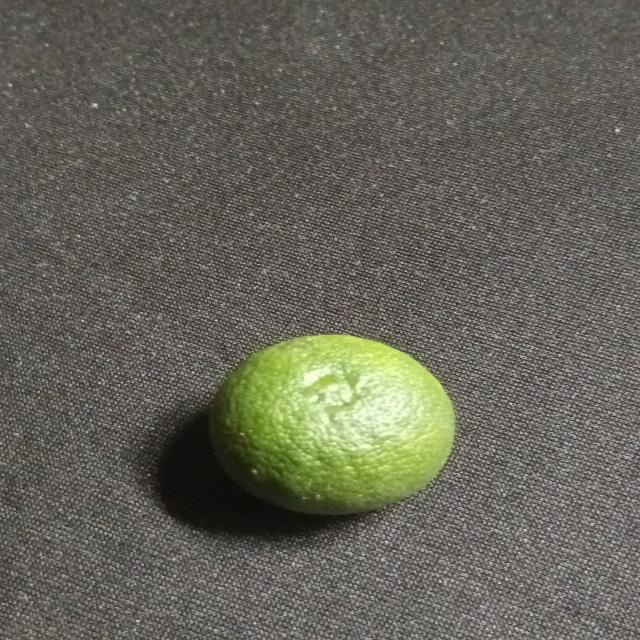heathy: (210, 332, 458, 516)
